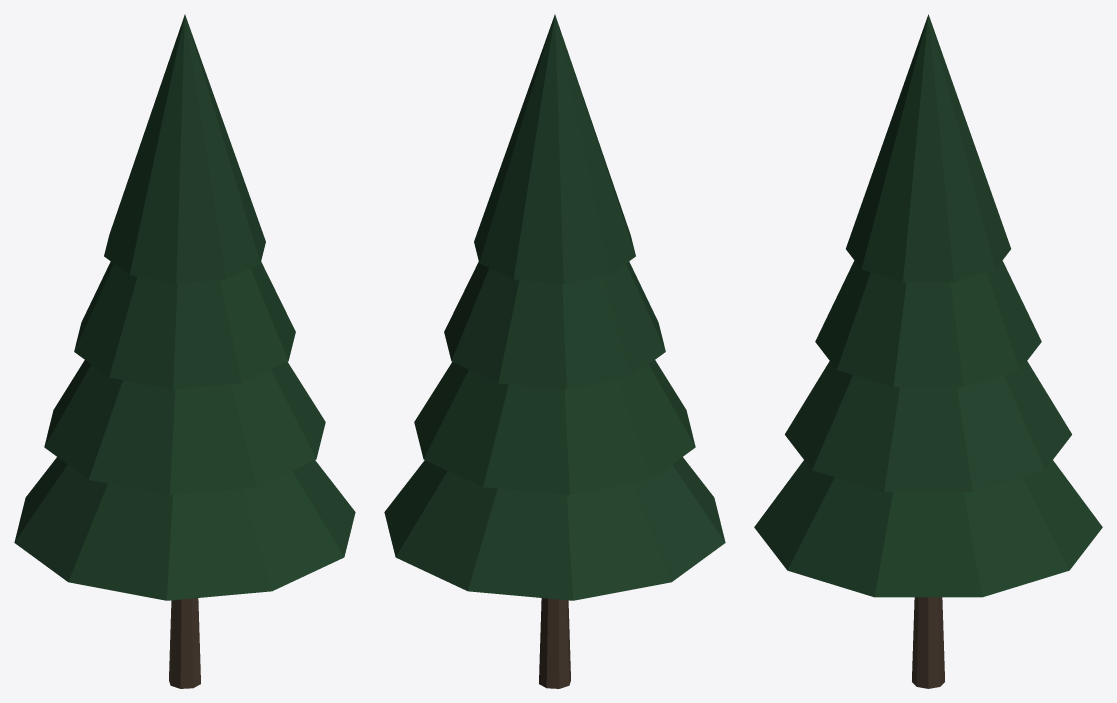
The model's file is SM_Cam_B.fbx.
The picture shows the model from 3 angles, left to right: view 1: azimuth 30°, elevation 25°; view 2: azimuth 150°, elevation 25°; view 3: azimuth 270°, elevation 25°; orthographic projection.
Parts seen in each view (by area): view 1: Cam_B; view 2: Cam_B; view 3: Cam_B.
Part boxes in pixels (x1,y1,x2,y2): Cam_B: (14,14,355,688); Cam_B: (384,14,725,688); Cam_B: (754,14,1102,688).
Bounding box in the file's own units: 437 × 972 × 460.
